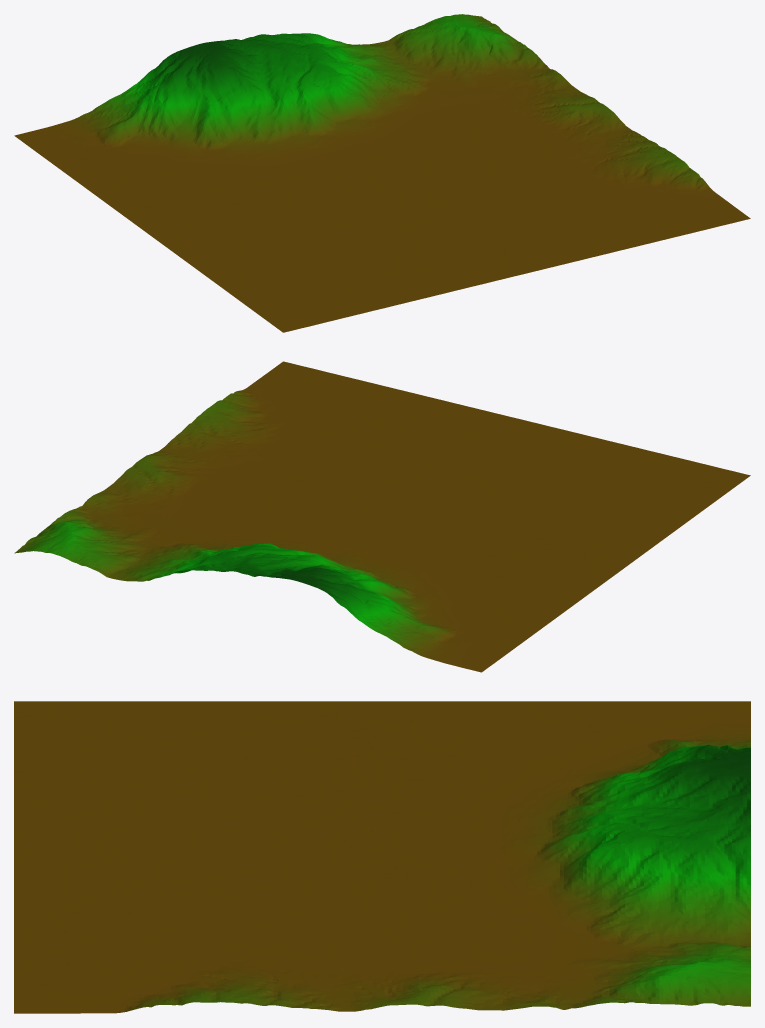
The model's file is Tile_002.fbx.
The picture shows the model from 3 angles, top to bottom: view 1: azimuth 30°, elevation 25°; view 2: azimuth 150°, elevation 25°; view 3: azimuth 270°, elevation 25°; orthographic projection. The views are drawn at different scales.
Parts seen in each view (by area): view 1: foreach_begin1; view 2: foreach_begin1; view 3: foreach_begin1.
Part boxes in pixels (x1,y1,x2,y2): foreach_begin1: (14, 14, 750, 332); foreach_begin1: (14, 361, 750, 672); foreach_begin1: (14, 701, 750, 1013).
Size of the model in its own units: 1556 by 148 by 1552.
